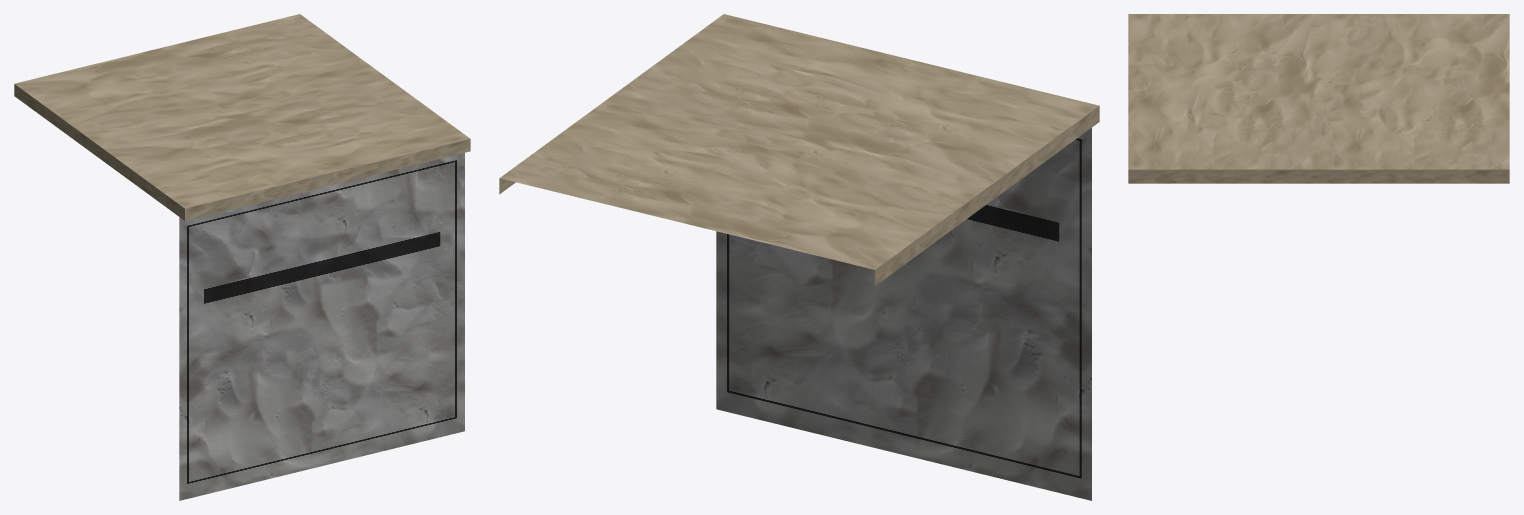
File: worktop01.fbx
3 views of the same model, side by side, from view 1: azimuth 30°, elevation 25°; view 2: azimuth 150°, elevation 25°; view 3: azimuth 270°, elevation 25° (orthographic). The views are drawn at different scales.
Parts seen in each view (by area): view 1: WorkTop01; view 2: WorkTop01; view 3: WorkTop01.
Part boxes in pixels (<box>): WorkTop01: <box>14,14,470,500</box>; WorkTop01: <box>499,14,1099,500</box>; WorkTop01: <box>1128,14,1509,183</box>.
Bounding box in the file's own units: 1 × 0.9913 × 1.03.
Materials: 1 (1 with a texture image).
